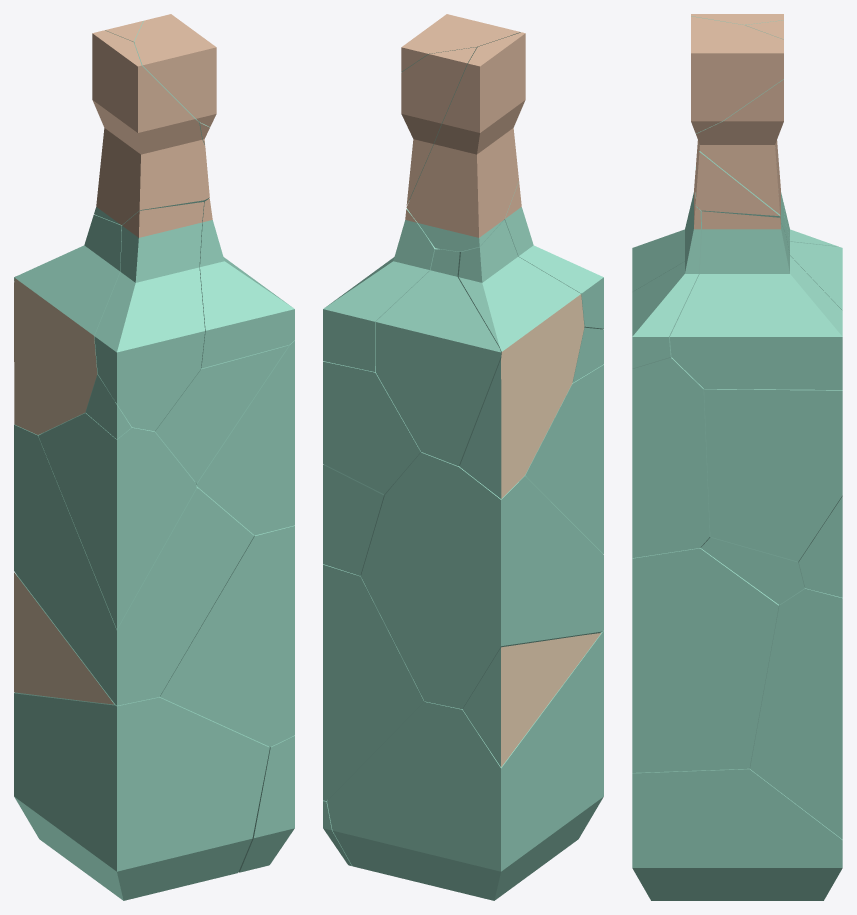
File: glass_broken.gltf
The picture shows the model from 3 angles, left to right: view 1: azimuth 30°, elevation 25°; view 2: azimuth 150°, elevation 25°; view 3: azimuth 270°, elevation 25°; orthographic projection. The views are drawn at different scales.
Visible parts, largest first — view 1: bottleOil_cell.008, bottleOil_cell.024, bottleOil_cell.004, bottleOil_cell.005, bottleOil_cell.009, bottleOil_cell.001, bottleOil_cell.016, bottleOil_cell.026, bottleOil_cell.022, bottleOil_cell.021, bottleOil_cell.023, bottleOil_cell.019 (+2 smaller); view 2: bottleOil_cell.008, bottleOil_cell.024, bottleOil_cell.001, bottleOil_cell.010, bottleOil_cell.016, bottleOil_cell.007, bottleOil_cell.003, bottleOil_cell.009, bottleOil_cell.023, bottleOil_cell.020, bottleOil_cell, bottleOil_cell.011 (+3 smaller); view 3: bottleOil_cell.005, bottleOil_cell.006, bottleOil_cell.020, bottleOil_cell.003, bottleOil_cell.007, bottleOil_cell.026, bottleOil_cell.019, bottleOil_cell, bottleOil_cell.022, bottleOil_cell.016, bottleOil_cell.025, bottleOil_cell.011 (+2 smaller).
Boxes of the visible parts, <box> form: bottleOil_cell.008: <box>14,692,269,900</box>; bottleOil_cell.024: <box>14,424,254,705</box>; bottleOil_cell.004: <box>94,202,204,431</box>; bottleOil_cell.005: <box>160,525,294,746</box>; bottleOil_cell.009: <box>38,402,196,629</box>; bottleOil_cell.001: <box>14,215,121,434</box>; bottleOil_cell.016: <box>92,30,209,225</box>; bottleOil_cell.026: <box>195,340,294,535</box>; bottleOil_cell.022: <box>199,198,294,368</box>; bottleOil_cell.021: <box>155,345,288,483</box>; bottleOil_cell.023: <box>14,572,113,704</box>; bottleOil_cell.019: <box>134,14,216,126</box>; bottleOil_cell.008: <box>327,631,603,900</box>; bottleOil_cell.024: <box>360,452,603,709</box>; bottleOil_cell.001: <box>455,220,584,499</box>; bottleOil_cell.010: <box>375,249,500,466</box>; bottleOil_cell.016: <box>406,32,525,251</box>; bottleOil_cell.007: <box>323,564,423,800</box>; bottleOil_cell.003: <box>323,361,420,494</box>; bottleOil_cell.009: <box>525,364,603,553</box>; bottleOil_cell.023: <box>463,633,600,767</box>; bottleOil_cell.020: <box>323,209,439,371</box>; bottleOil_cell: <box>401,47,476,205</box>; bottleOil_cell.011: <box>323,465,383,575</box>; bottleOil_cell.005: <box>632,547,779,772</box>; bottleOil_cell.006: <box>632,768,842,900</box>; bottleOil_cell.020: <box>670,211,842,389</box>; bottleOil_cell.003: <box>704,389,842,562</box>; bottleOil_cell.007: <box>750,588,842,839</box>; bottleOil_cell.026: <box>632,357,710,558</box>; bottleOil_cell.019: <box>691,16,783,133</box>; bottleOil_cell: <box>696,20,783,214</box>; bottleOil_cell.022: <box>632,206,701,368</box>; bottleOil_cell.016: <box>691,14,785,232</box>; bottleOil_cell.025: <box>701,537,804,604</box>; bottleOil_cell.011: <box>798,495,842,597</box>.
Bounding box in the file's own units: 0.7 × 3.05 × 0.7.
